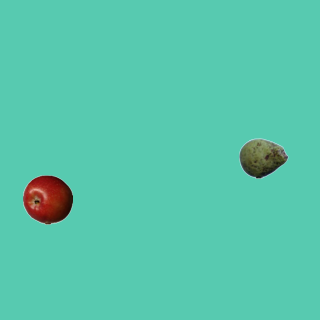Apple Braeburn: (22, 174, 72, 224)
Pear Stone: (238, 133, 288, 183)
